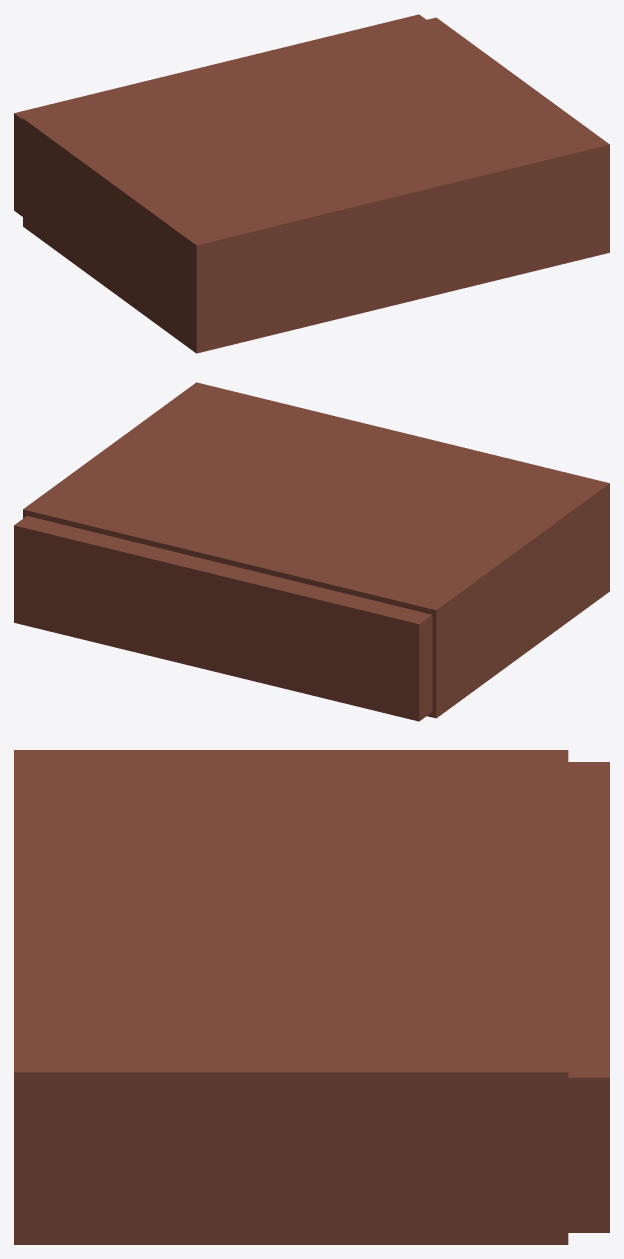
The model's file is Ledger.gltf.
3 renders of one model, top to bottom at view 1: azimuth 30°, elevation 25°; view 2: azimuth 150°, elevation 25°; view 3: azimuth 270°, elevation 25°, orthographic. The views are drawn at different scales.
Size of the model in its own units: 0.22 by 0.055 by 0.172.
